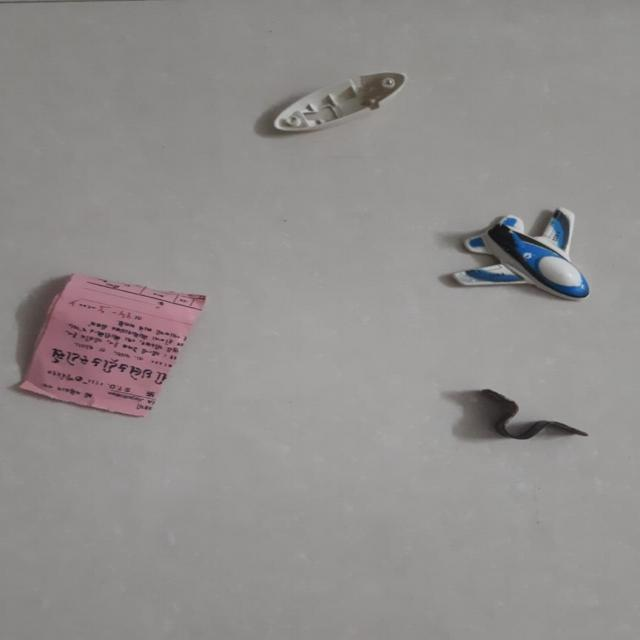dry: (10, 265, 244, 452), (390, 183, 629, 332), (170, 45, 486, 147), (424, 375, 636, 498)
